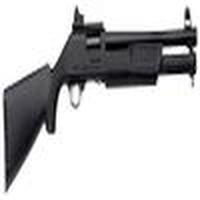gun: (1, 23, 198, 181)
